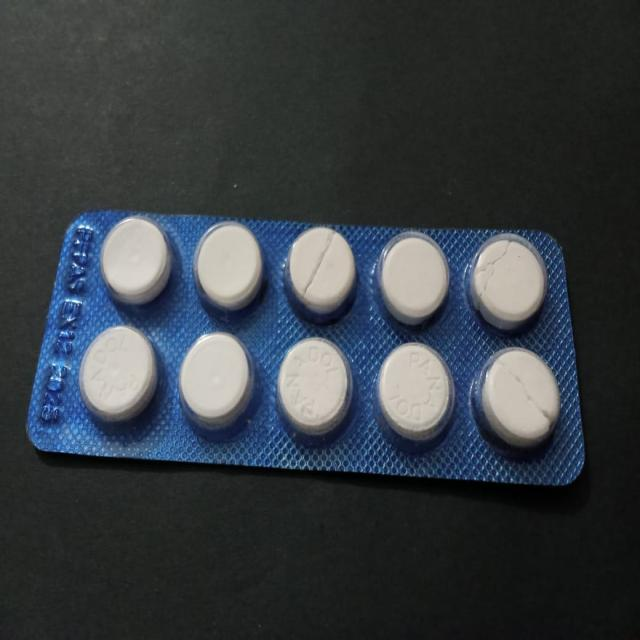defect: (478, 346, 563, 452), (465, 230, 551, 332), (286, 222, 359, 317)
